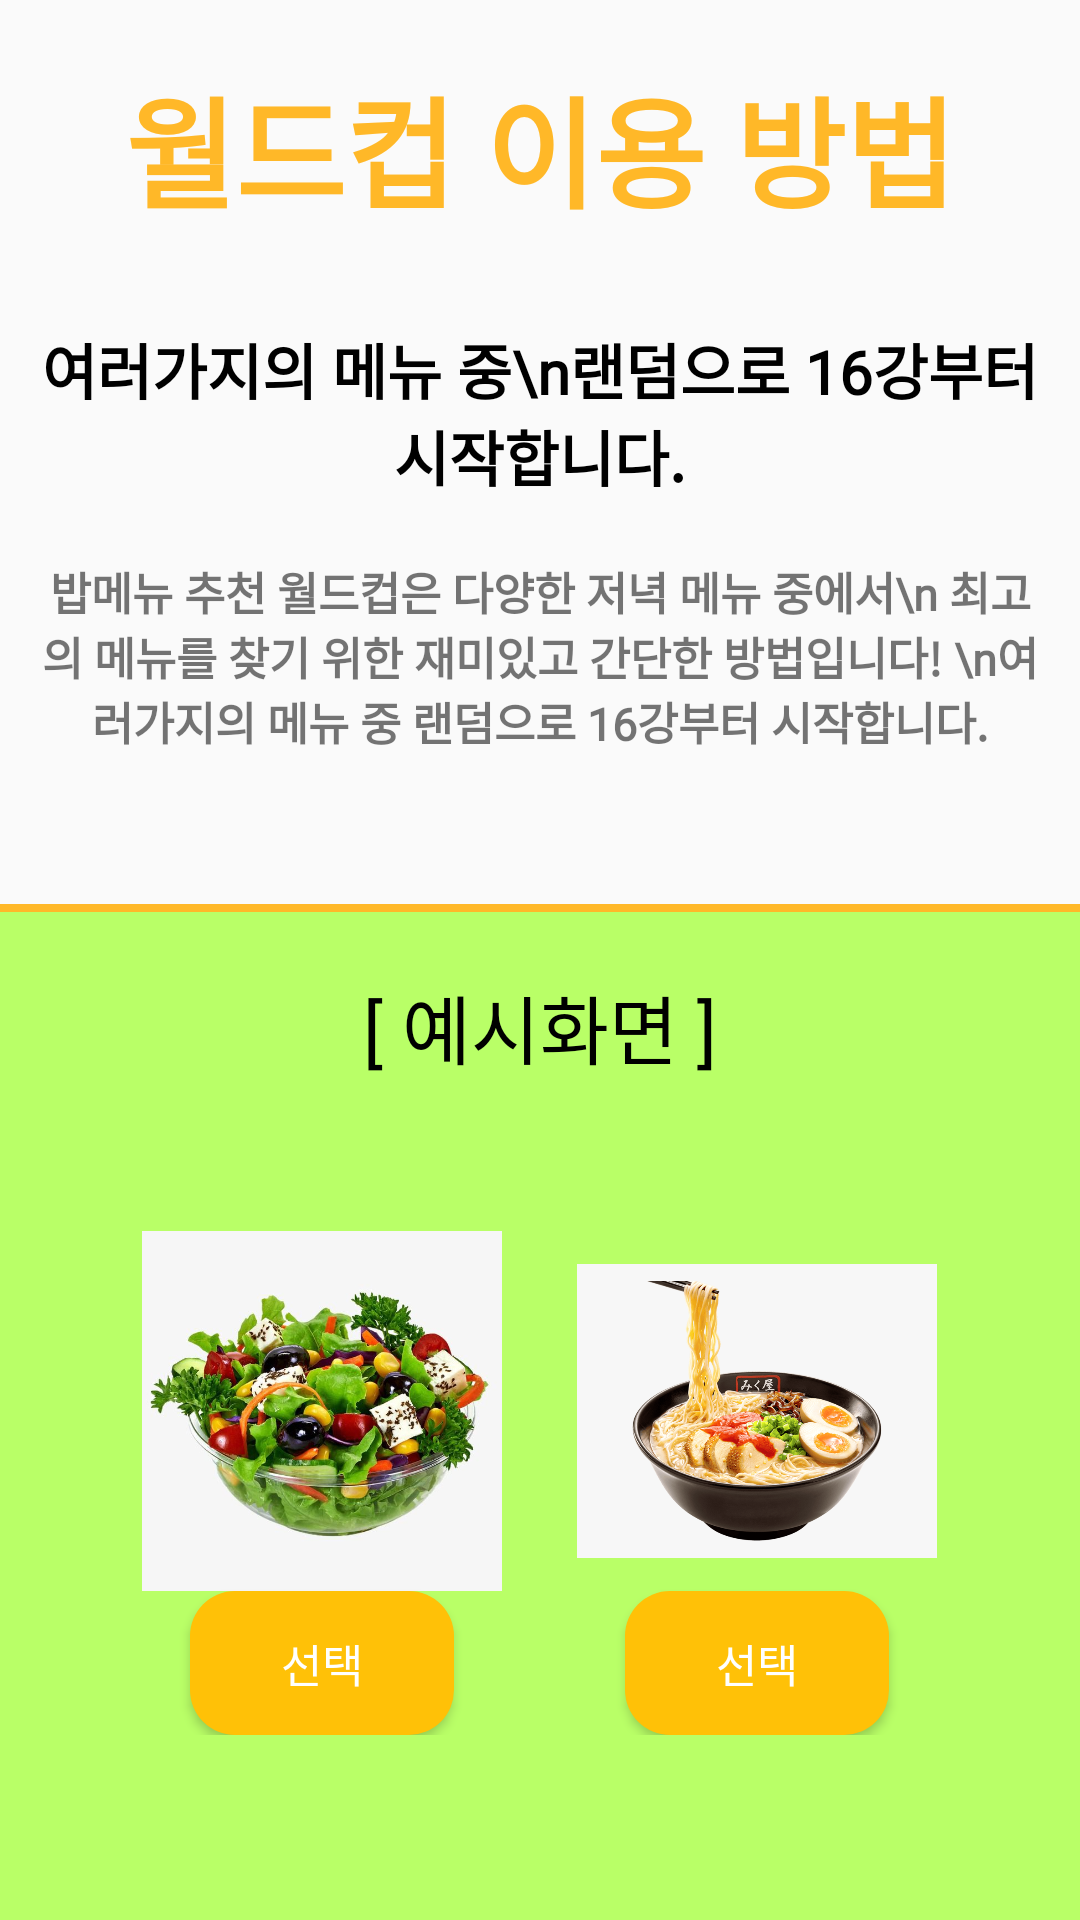

Where to tap for icons on this 1080x1920 app screen, as point (x, y):
ramen: point (757, 1411)
salad: point (322, 1411)
